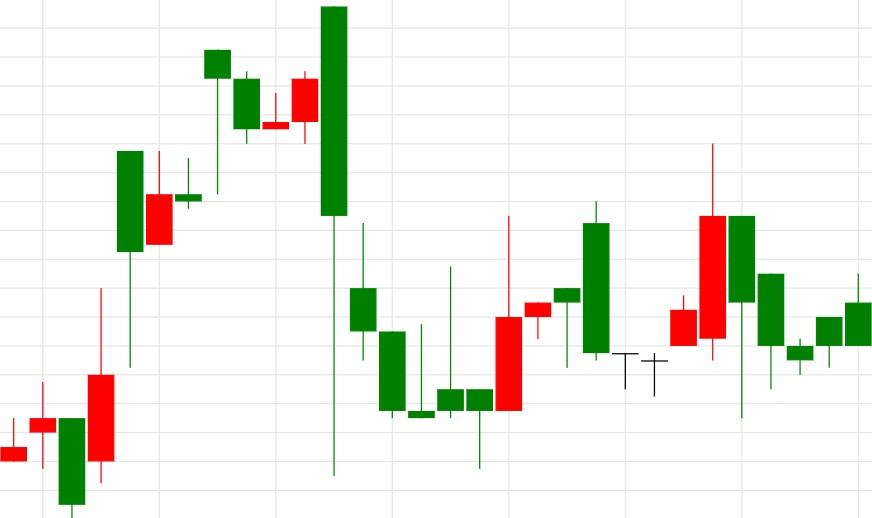hanging_man_fall: (58, 49, 232, 517)
